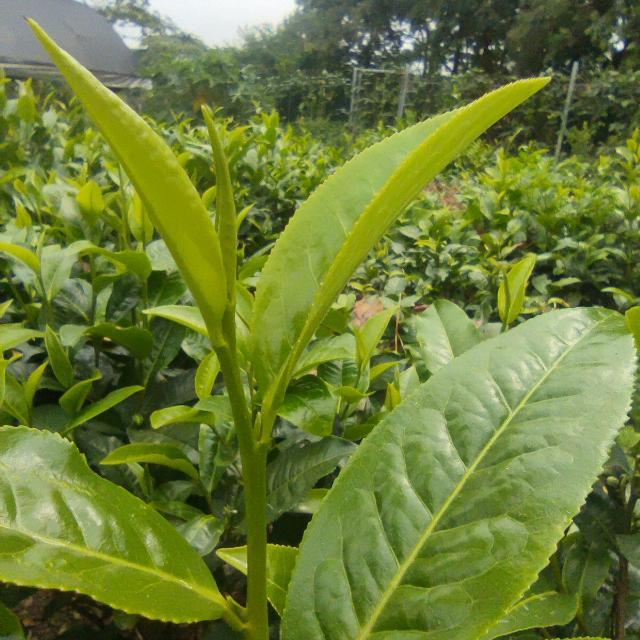Stem: (216, 344, 239, 372)
